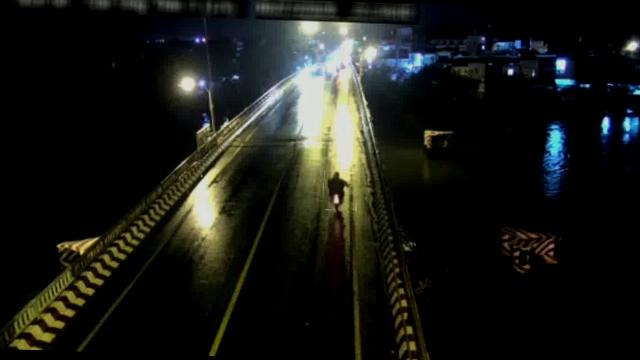Bike: (323, 170, 358, 210)
